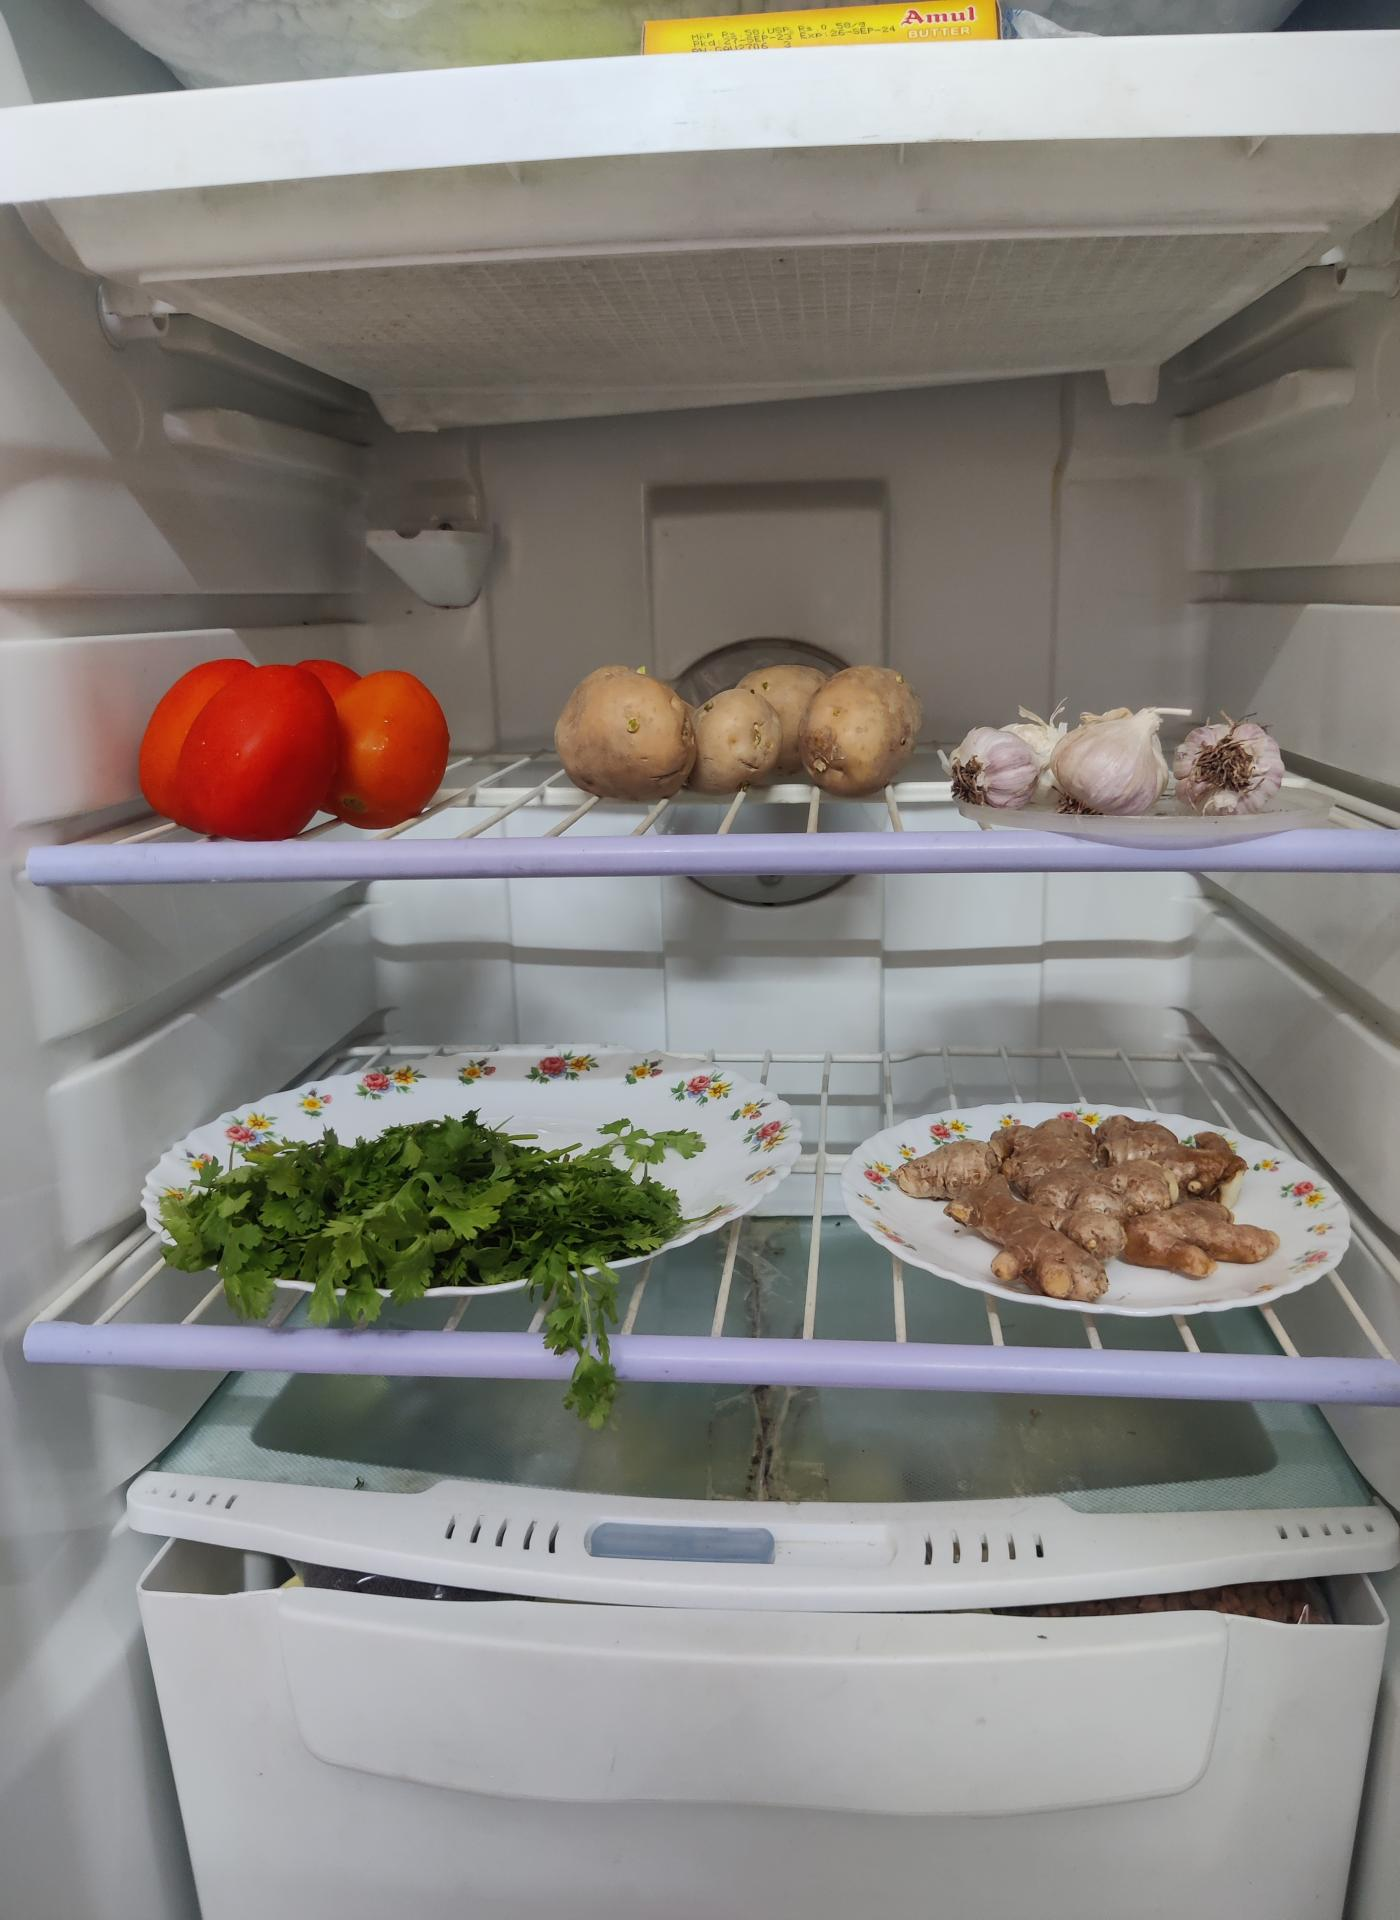coriander: (151, 1124, 684, 1322)
garlic: (951, 708, 1176, 820), (1172, 714, 1285, 808)
ginger: (886, 1112, 1261, 1306)
potato: (562, 648, 933, 796)
tomato: (143, 648, 461, 830)
